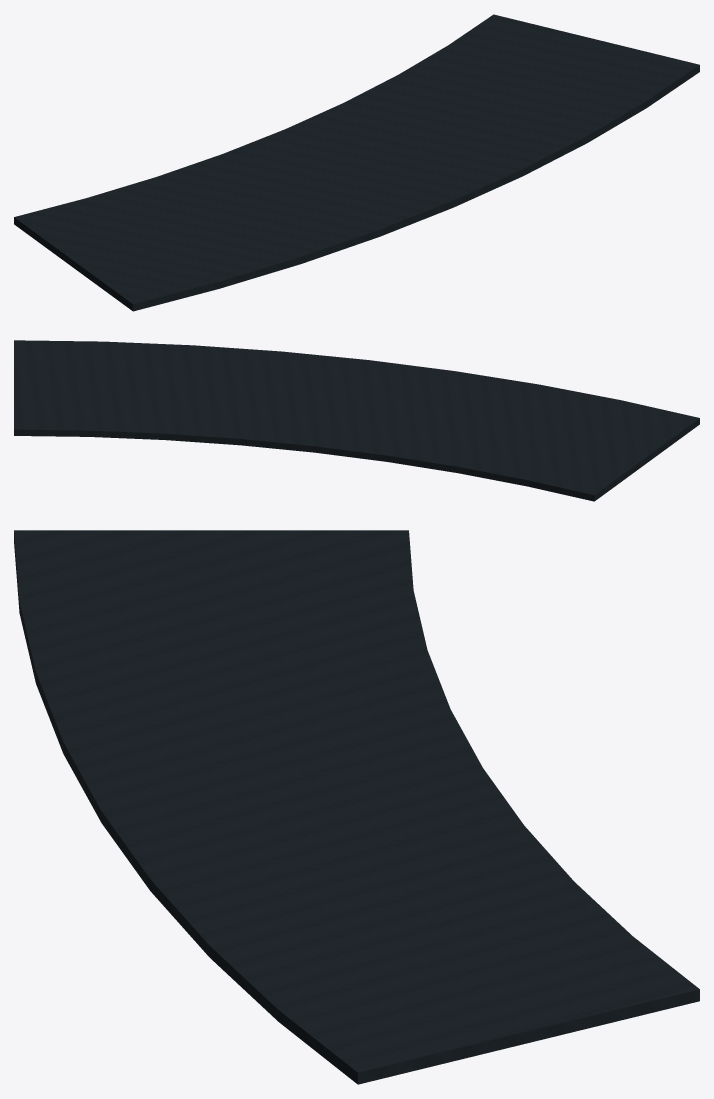
The model's file is Transit_Road_2L_Curve30_R36_Surface.glb.
3 renders of one model, top to bottom at view 1: azimuth 30°, elevation 25°; view 2: azimuth 150°, elevation 25°; view 3: azimuth 270°, elevation 25°, orthographic. The views are drawn at different scales.
Visible parts, largest first — view 1: Transit_Road_2L_Curve30_R36_Surface; view 2: Transit_Road_2L_Curve30_R36_Surface; view 3: Transit_Road_2L_Curve30_R36_Surface.
Part boxes in pixels (x1,y1,x2,y2): Transit_Road_2L_Curve30_R36_Surface: (14,14,699,311); Transit_Road_2L_Curve30_R36_Surface: (14,340,699,501); Transit_Road_2L_Curve30_R36_Surface: (14,530,699,1084).
Size of the model in its own units: 19.5 by 0.2 by 10.42.
Materials: 1 (1 with a texture image).
